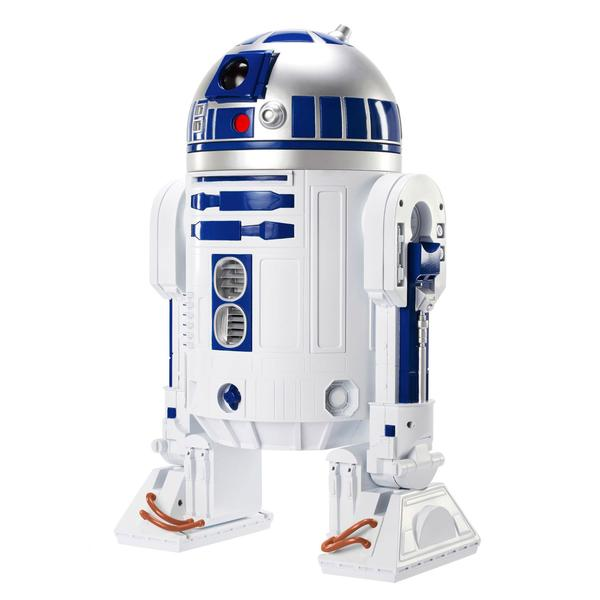r2d2: (114, 24, 480, 581)
